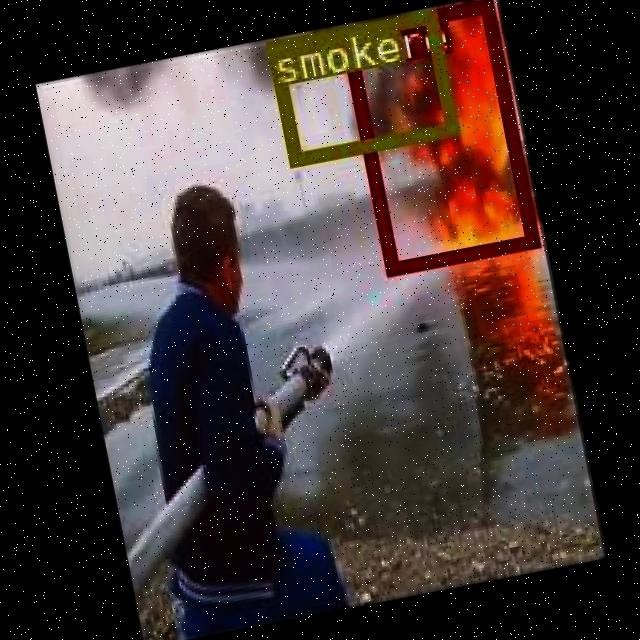fire: (338, 0, 538, 273)
smoke: (263, 8, 458, 165)
